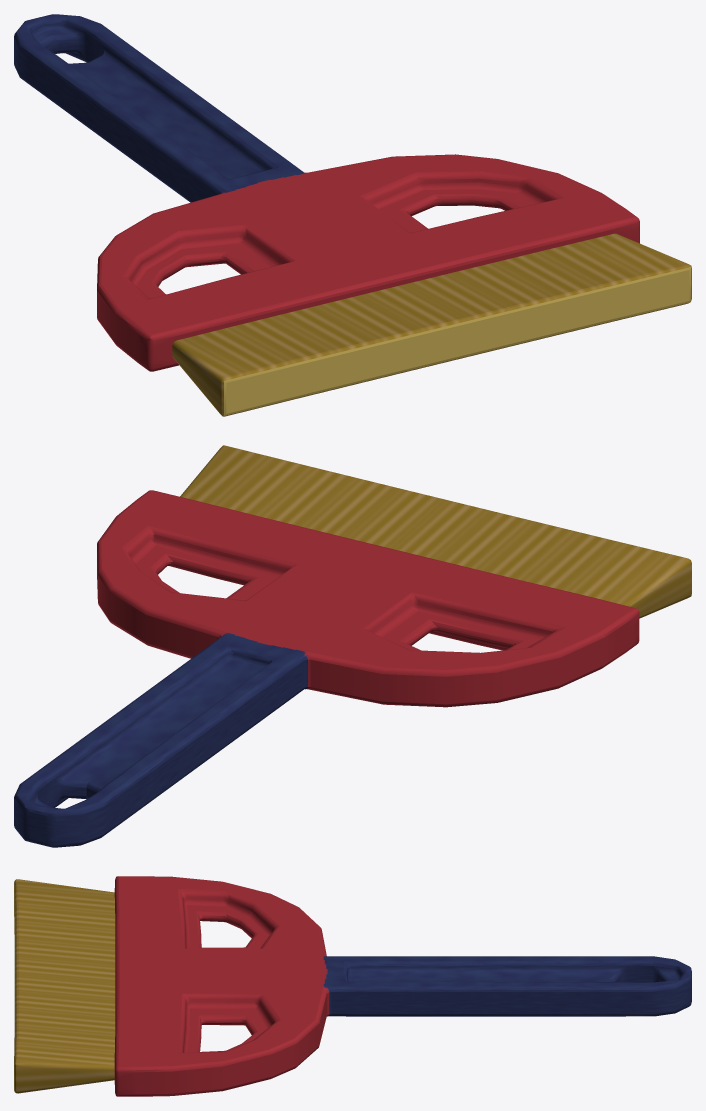
The model's file is small broom scene 1.fbx.
3 views of the same model, one above another, from view 1: azimuth 30°, elevation 25°; view 2: azimuth 150°, elevation 25°; view 3: azimuth 270°, elevation 25° (orthographic). The views are drawn at different scales.
Visible parts, largest first — view 1: mini 3; view 2: mini 3; view 3: mini 3.
Boxes of the visible parts, x1,y1,x2,y2 form: mini 3: (14, 14, 691, 416); mini 3: (14, 445, 691, 847); mini 3: (14, 876, 691, 1096).
Size of the model in its own units: 199 by 15.15 by 294.
Materials: 1 (1 with a texture image).
